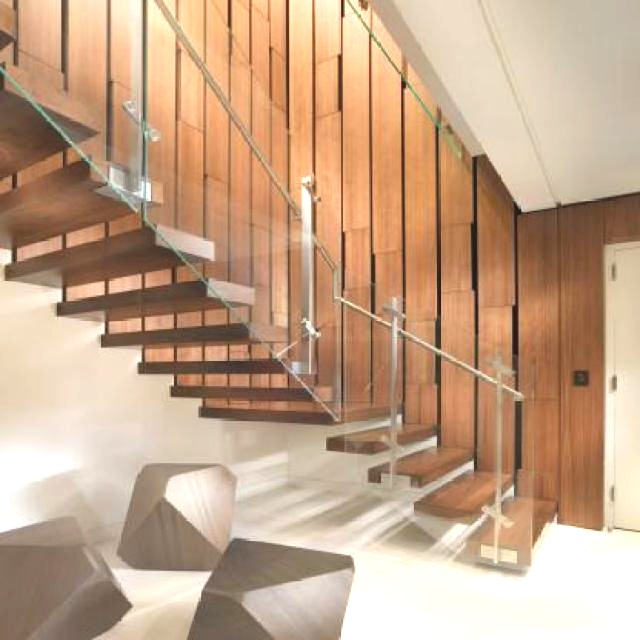stair: (0, 0, 605, 589)
